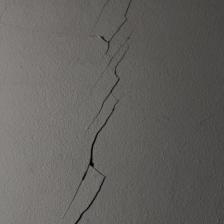Medium: (64, 39, 148, 223)
